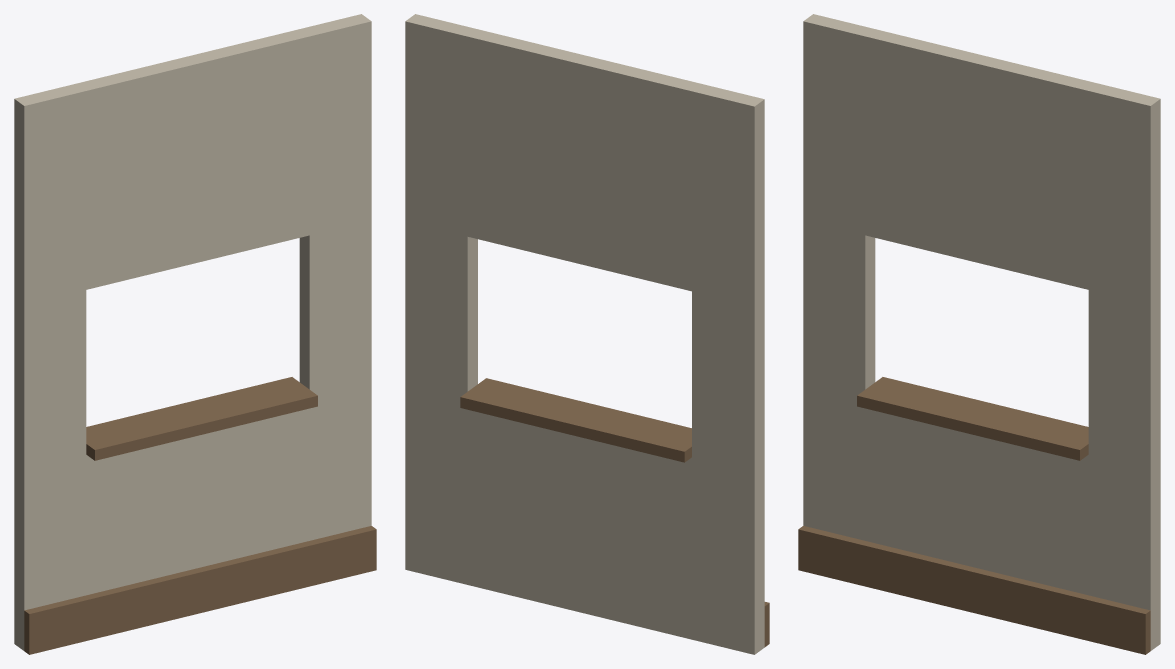
Rendered from Mesh_WallBaseboard_A3.fbx.
The picture shows the model from 3 angles, left to right: view 1: azimuth 30°, elevation 25°; view 2: azimuth 150°, elevation 25°; view 3: azimuth 330°, elevation 25°; orthographic projection.
Visible parts, largest first — view 1: Mesh_WallBaseboard_A3; view 2: Mesh_WallBaseboard_A3; view 3: Mesh_WallBaseboard_A3.
Part boxes in pixels (x1=…): Mesh_WallBaseboard_A3: x1=14, y1=14, x2=376, y2=654; Mesh_WallBaseboard_A3: x1=405, y1=14, x2=769, y2=654; Mesh_WallBaseboard_A3: x1=798, y1=14, x2=1160, y2=654.
Bounding box in the file's own units: 2 × 3 × 0.2574.
